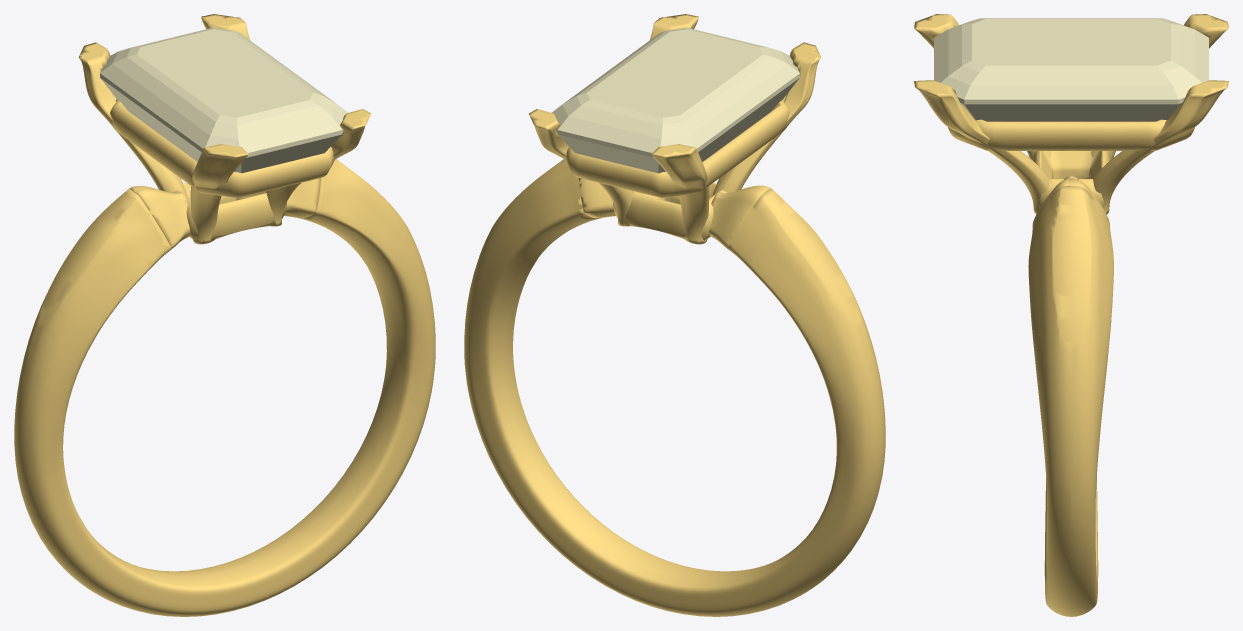
The model's file is NickAdjustedV3.glb.
3 renders of one model, left to right at view 1: azimuth 30°, elevation 25°; view 2: azimuth 150°, elevation 25°; view 3: azimuth 270°, elevation 25°, orthographic. The views are drawn at different scales.
Parts seen in each view (by area): view 1: V3 Nick YG for 3d model, Nick dia for 3d model; view 2: V3 Nick YG for 3d model, Nick dia for 3d model; view 3: V3 Nick YG for 3d model, Nick dia for 3d model.
Boxes of the visible parts, <box> form: V3 Nick YG for 3d model: <box>14,14,435,616</box>; Nick dia for 3d model: <box>100,27,348,173</box>; V3 Nick YG for 3d model: <box>464,14,885,616</box>; Nick dia for 3d model: <box>551,27,799,173</box>; V3 Nick YG for 3d model: <box>914,14,1228,616</box>; Nick dia for 3d model: <box>934,18,1208,121</box>.
Size of the model in its own units: 18.46 by 22.79 by 11.79.
